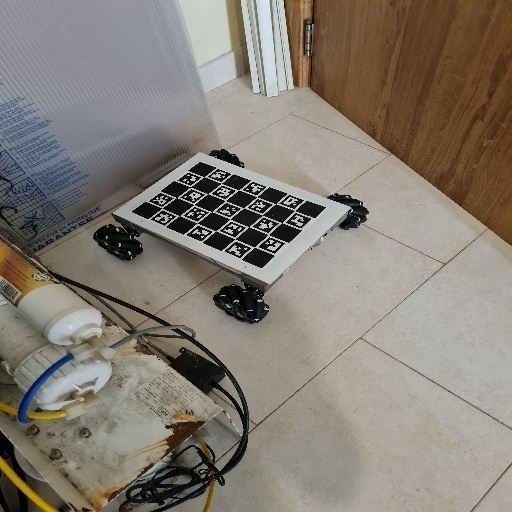Omniwheel: (95, 147, 369, 326)
